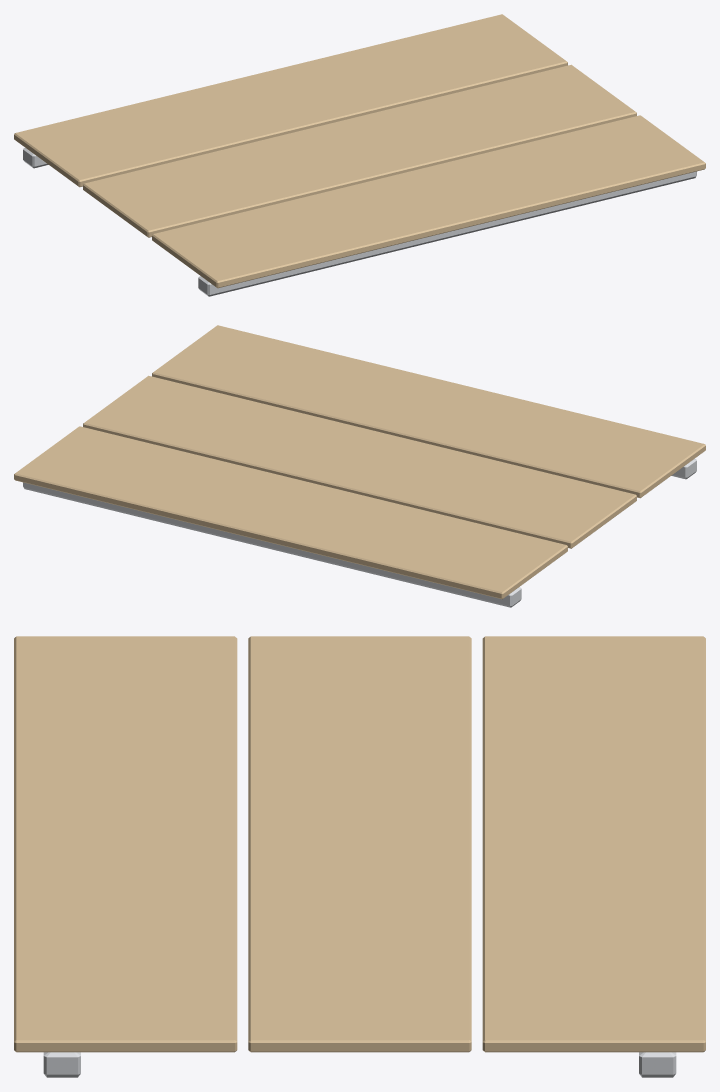
The model's file is timber-rack-deck-panel.glb.
3 views of the same model, one above another, from view 1: azimuth 30°, elevation 25°; view 2: azimuth 150°, elevation 25°; view 3: azimuth 270°, elevation 25° (orthographic). The views are drawn at different scales.
Parts seen in each view (by area): view 1: timber-rack-deck; view 2: timber-rack-deck; view 3: timber-rack-deck.
Boxes of the visible parts, x1,y1,x2,y2 form: timber-rack-deck: (14, 14, 705, 296); timber-rack-deck: (14, 325, 705, 607); timber-rack-deck: (14, 636, 705, 1077).
Size of the model in its own units: 1.29 by 0.056 by 0.93.
